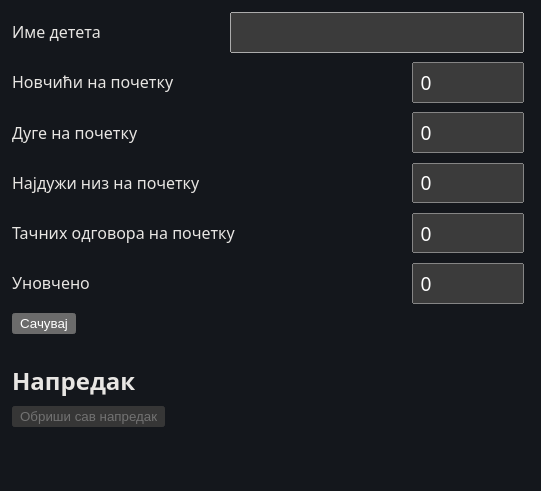
it: Сачувај uppercases the name and keeps old values for invalid numbers
Type " маја " into the field labelled "Име детета" at {"x": 377, "y": 32}, box [230,12,524,53]
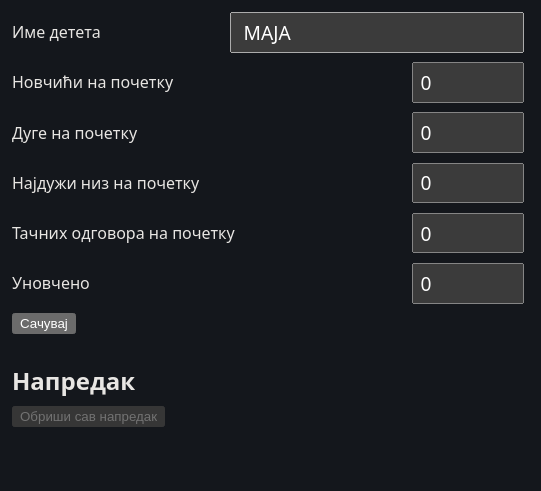
Replace the text in the number field labelled "Новчићи на почетку" with "5" at {"x": 468, "y": 82}, box [412,62,524,103]
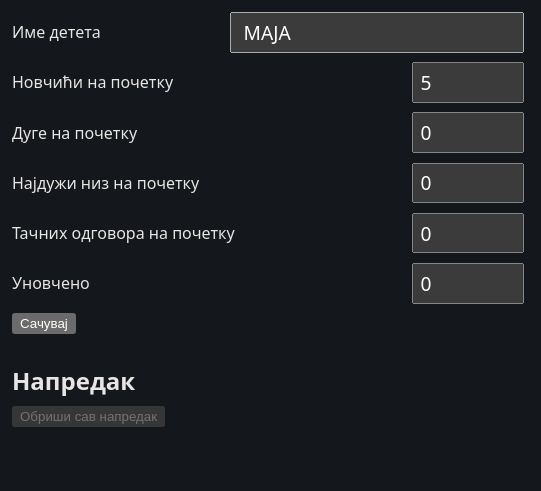
Replace the text in the number field labelled "Уновчено" with "-2" at {"x": 468, "y": 283}, box [412,263,524,304]
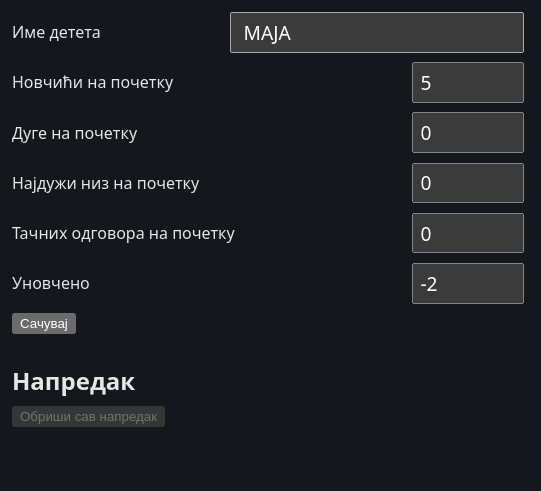
Click the button "Сачувај" at {"x": 44, "y": 324}, box [12,313,76,334]
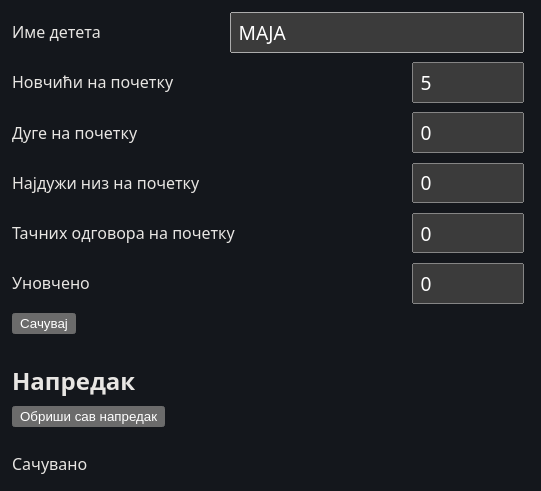
Result: the text "Сачувано" is shown at [12,453,87,475]
